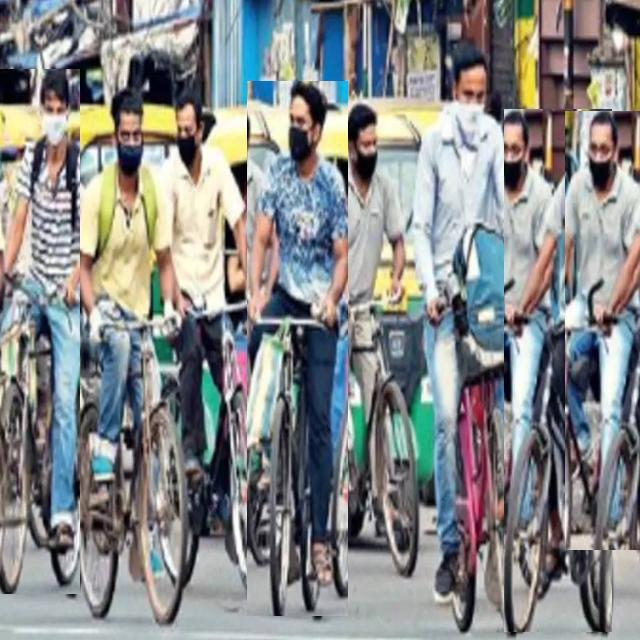bicycle: (414, 44, 528, 633), (76, 89, 188, 624), (504, 109, 612, 632), (248, 82, 348, 616), (162, 89, 265, 598), (327, 102, 419, 574), (0, 69, 80, 594), (565, 111, 640, 550)
